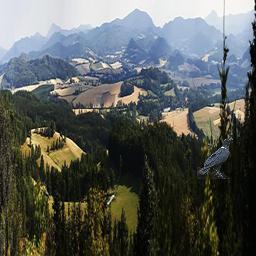Crow: (197, 137, 233, 179)
